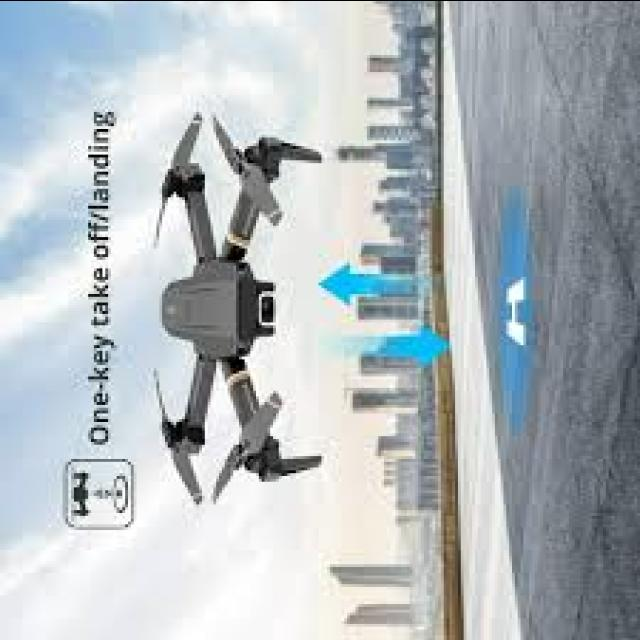drone: (129, 118, 341, 514)
